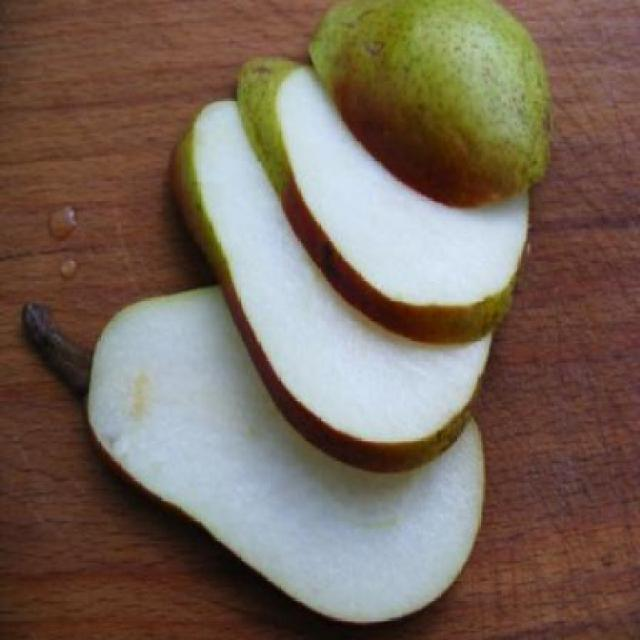Pear: (84, 289, 487, 628), (163, 96, 492, 473), (231, 52, 531, 346), (309, 2, 557, 206)
